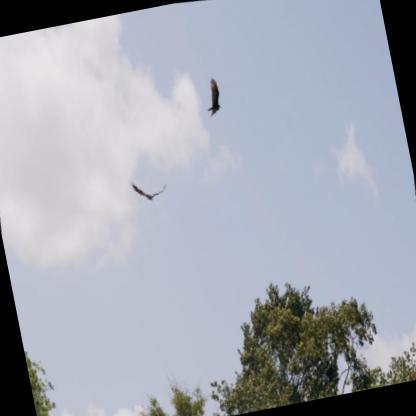bird: (124, 165, 172, 209), (200, 74, 225, 118)
